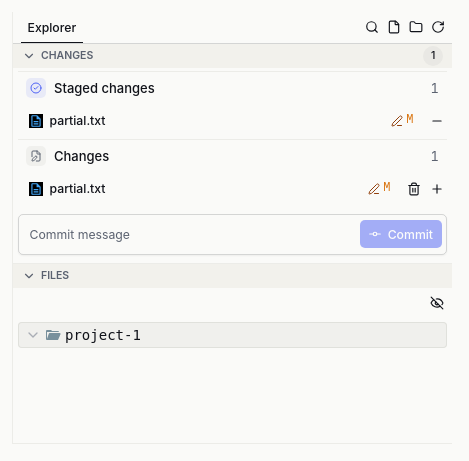
Test: ContextWorkbench › switches between staged and worktree diffs for a partially staged path
Click the button "partial.txt M" below "Staged changes": (78, 121) [18,103,424,139]
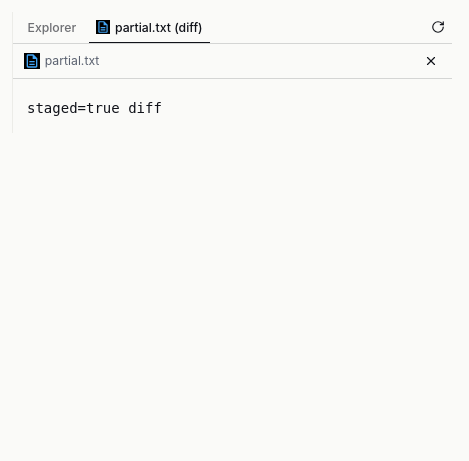
Expected: the text "staged=true diff" is shown, [13,84,452,133]
Click the tab "Explorer": (52, 27) [20,15,84,40]
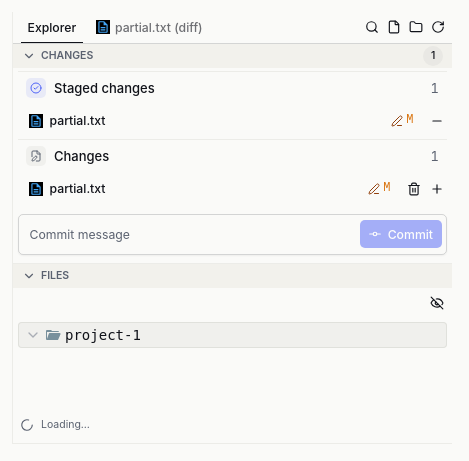
Click the 2nd button "partial.txt M": (78, 189) [18,171,401,207]
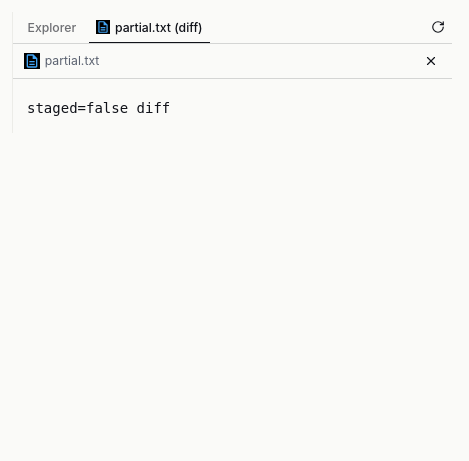
Expected: the text "staged=false diff" is shown, [13,84,452,133]
